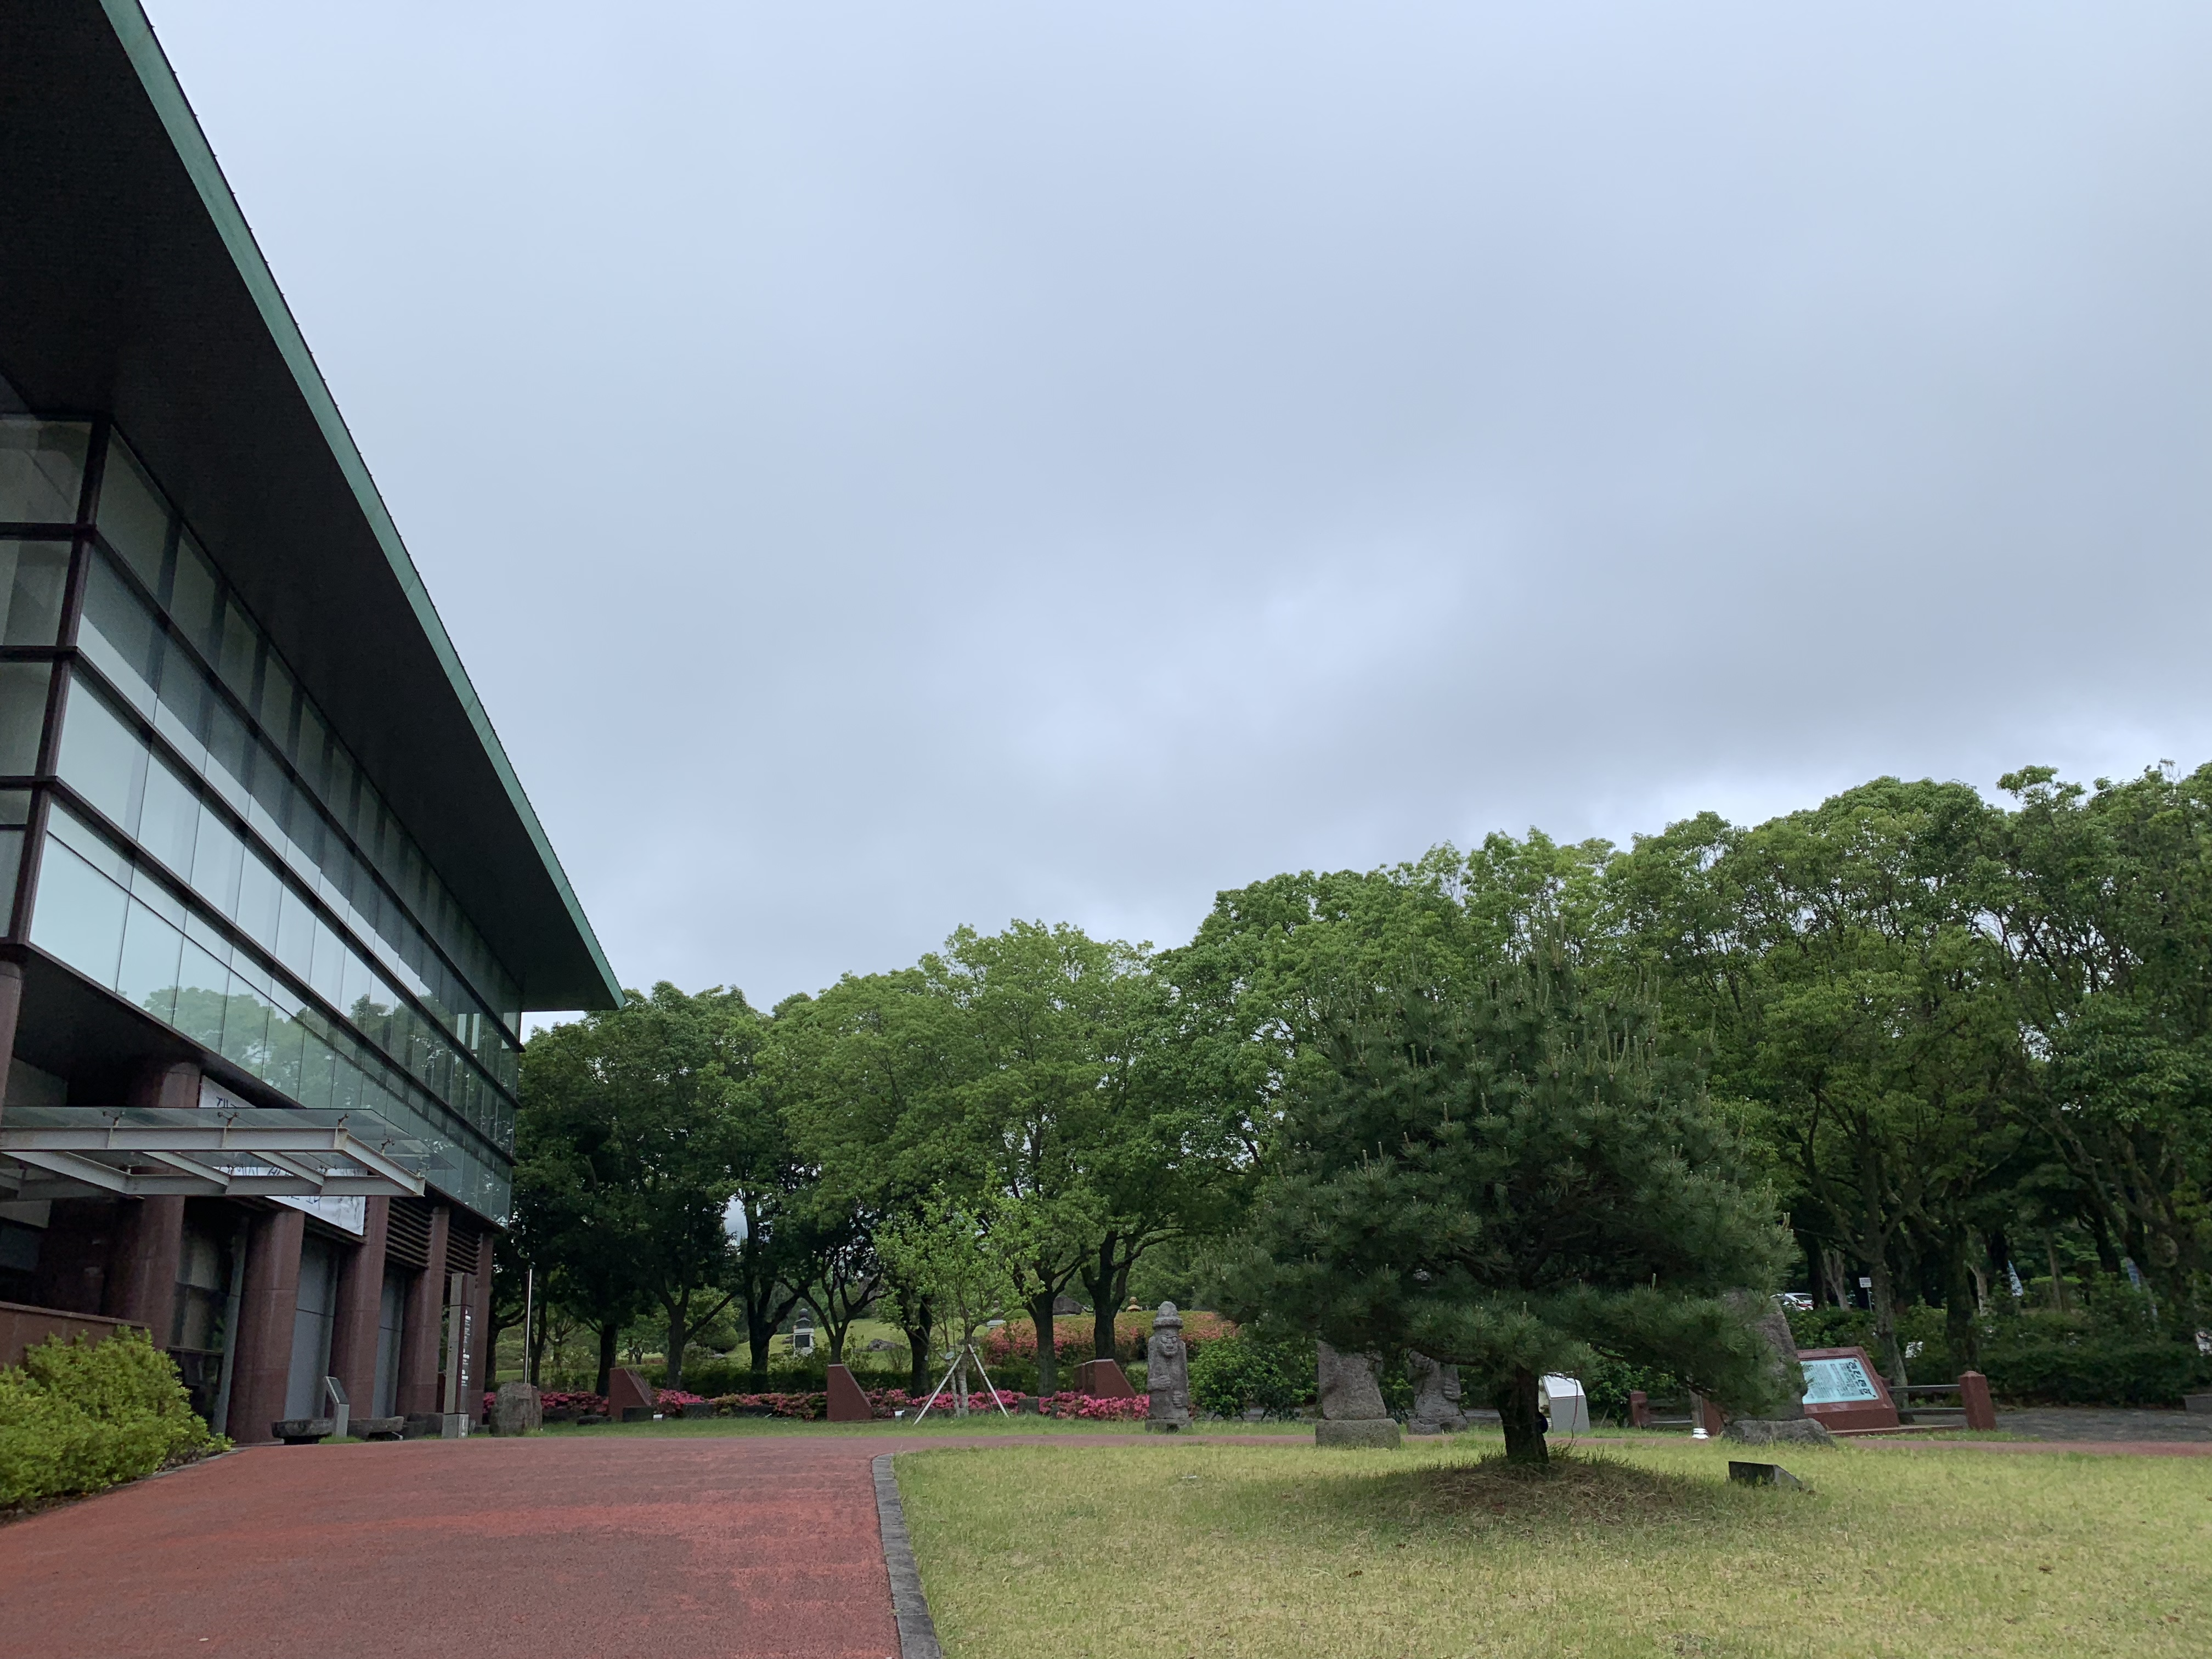Museum: (5, 28, 620, 1527)
